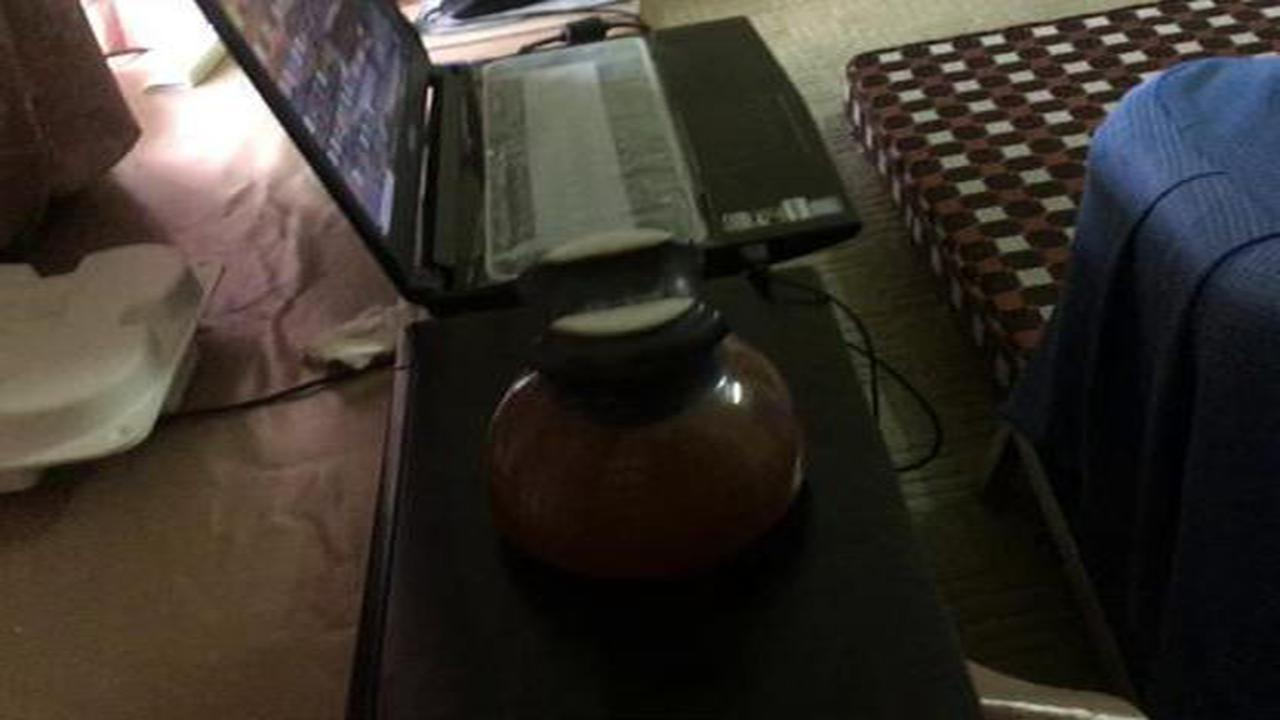insulator_pin: (450, 213, 844, 624)
